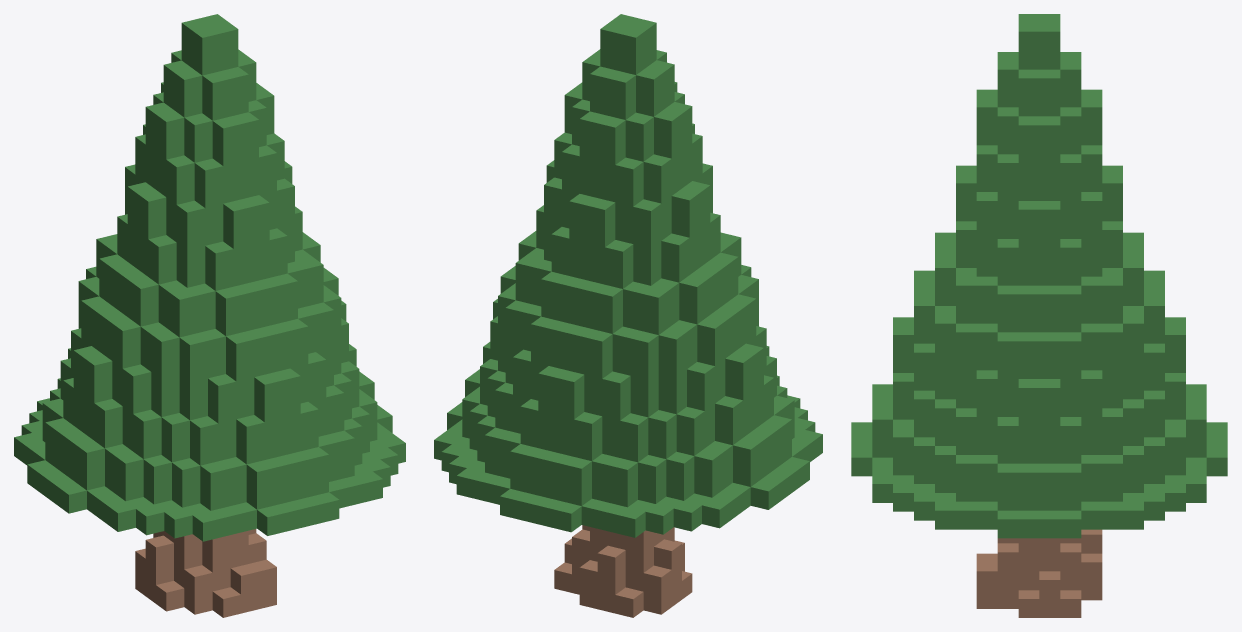
Rendered from tree_c_v1.fbx.
3 views of the same model, side by side, from view 1: azimuth 30°, elevation 25°; view 2: azimuth 150°, elevation 25°; view 3: azimuth 270°, elevation 25° (orthographic).
Parts seen in each view (by area): view 1: tree_c; view 2: tree_c; view 3: tree_c.
Part boxes in pixels (x1,y1,x2,y2): tree_c: (14,14,405,617); tree_c: (434,14,822,617); tree_c: (851,14,1227,617).
Size of the model in its own units: 18 by 30 by 18.
